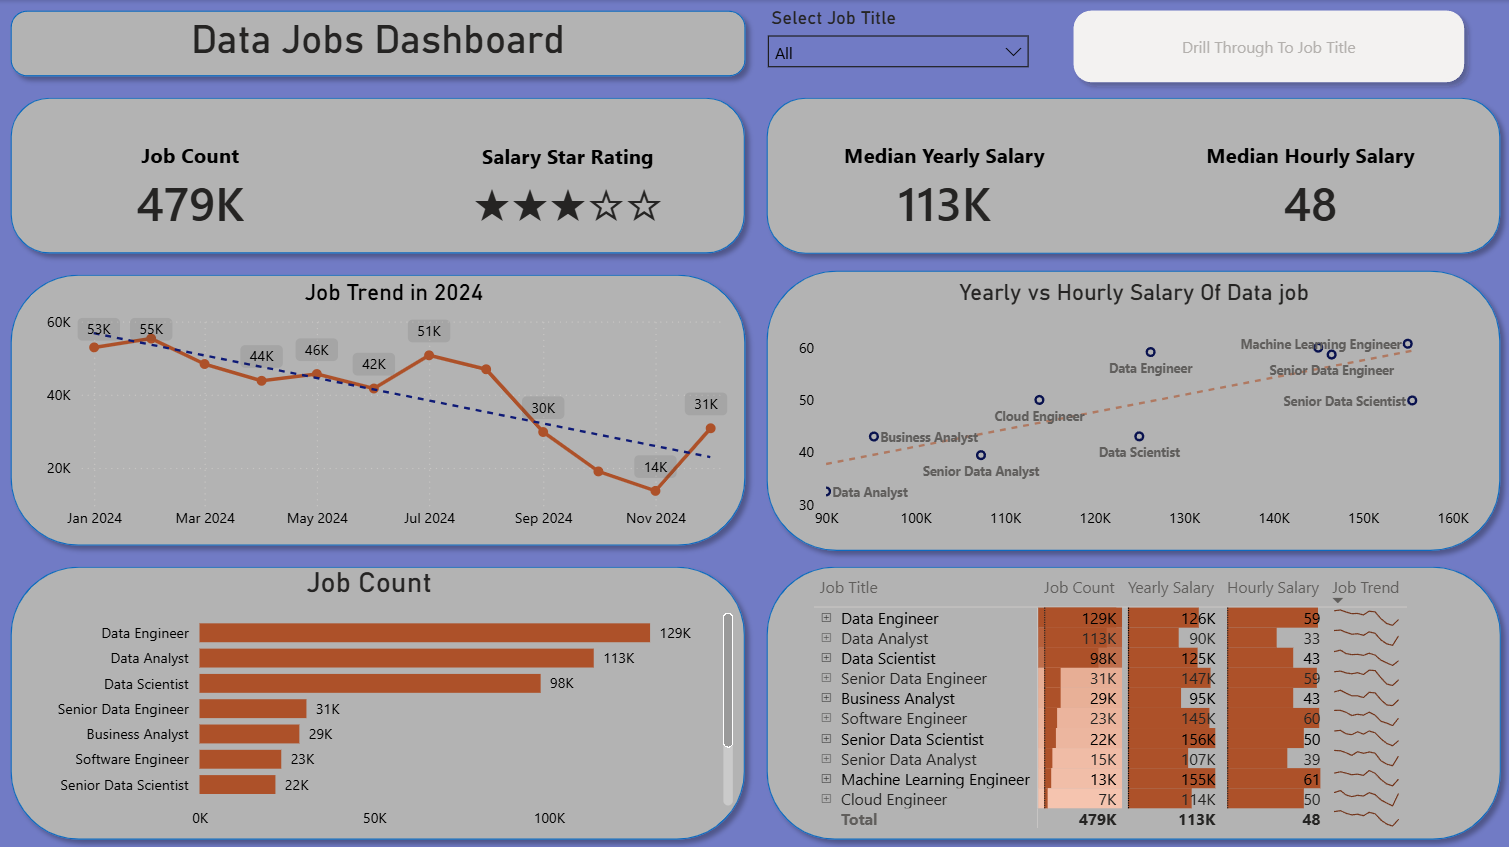

Layout of this report page (visuals, bound fields, positions):
{"tool":"powerbi","page":{"name":"Dashboard","canvas":[1280,720],"ordinal":0},"visuals":[{"type":"group","id":"g1","title":"Background Shape","box":[0,0,1280,720.2],"z":1000},{"type":"shape","box":[0,73.3,640,150.1],"z":1000,"group":"g1"},{"type":"textbox","box":[0,8.8,640.5,72.7],"z":2000},{"type":"shape","box":[640.5,73.7,639.5,150.3],"z":2000,"group":"g1"},{"type":"slicer","fields":{"Values":["job_postings_flat.job_title_short"]},"box":[640.5,0,240.7,73.7],"z":3000},{"type":"shape","box":[640.5,220,639.5,255.4],"z":3000,"group":"g1"},{"type":"shape","box":[0,224,640.5,247.6],"z":4000,"group":"g1"},{"type":"lineChart","title":"Job Trend in 2024","fields":{"Y":["CountNonNull(job_postings_flat.job_title_short)"],"Category":["job_postings_flat.job_posted_date.Variation.Date Hierarchy.Year","job_postings_flat.job_posted_date.Variation.Date Hierarchy.Quarter","job_postings_flat.job_posted_date.Variation.Date Hierarchy.Month","job_postings_flat.job_posted_date.Variation.Date Hierarchy.Day"]},"box":[34.4,236.7,598.3,221],"z":4000},{"type":"shape","box":[0,470.9,640,249.3],"z":5000,"group":"g1"},{"type":"barChart","title":"Job Count","fields":{"Category":["job_postings_flat.job_title_short"],"Y":["CountNonNull(job_postings_flat.job_title_short)"]},"box":[0,479.4,625.8,231.8],"z":5000},{"type":"scatterChart","title":"Yearly vs Hourly Salary Of Data job","fields":{"X":["job_postings_flat.salary_year_avg"],"Y":["job_postings_flat.salary_hour_avg"],"Series":["job_postings_flat.job_title_short"]},"box":[671.9,236.7,577.6,221],"z":6000},{"type":"shape","box":[640,470.9,640,249.3],"z":6000,"group":"g1"},{"type":"shape","box":[0,0,640.5,73.7],"z":7000,"group":"g1"},{"type":"pivotTable","fields":{"Rows":["job_postings_flat.job_title_short","job_postings_flat.job_posted_date.Variation.Date Hierarchy.Quarter"],"Values":["CountNonNull(job_postings_flat.job_title_short)","Median(job_postings_flat.salary_year_avg)","Median(job_postings_flat.salary_hour_avg)","SparklineData(CountNonNull(job_postings_flat.job_title_short)_[job_postings_flat.job_posted_date.Variation.Date Hierarch"]},"box":[684.7,483.3,595.3,236.7],"z":7000},{"type":"cardVisual","title":"Job Count","fields":{"Data":["CountNonNull(job_postings_flat.job_title_short)"]},"box":[2,78.6,319.3,158.2],"z":8000},{"type":"cardVisual","fields":{"Data":["job_postings_flat.Salary Star Rating"]},"box":[321.2,78.6,320.2,158.2],"z":9000},{"type":"cardVisual","fields":{"Data":["Median(job_postings_flat.salary_year_avg)"]},"box":[645.4,78.6,309.4,158.2],"z":10000},{"type":"cardVisual","fields":{"Data":["Median(job_postings_flat.salary_hour_avg)"]},"box":[954.8,80.6,311.4,156.2],"z":11000},{"type":"actionButton","box":[900.8,0,348.7,78.6],"z":12000}]}

Visuals, with their boxes in screenshot pixels (x1, y1, x2, y2), scaled from the page's 1280x720 canvas onto the 1509x847 screenshot:
"Background Shape" group: {"left": 0, "top": 0, "right": 1508, "bottom": 846}
shape: {"left": 0, "top": 86, "right": 754, "bottom": 263}
textbox: {"left": 0, "top": 10, "right": 755, "bottom": 96}
shape: {"left": 755, "top": 87, "right": 1508, "bottom": 264}
slicer - job_postings_flat.job_title_short: {"left": 755, "top": 0, "right": 1039, "bottom": 87}
shape: {"left": 755, "top": 259, "right": 1508, "bottom": 559}
shape: {"left": 0, "top": 264, "right": 755, "bottom": 555}
"Job Trend in 2024" lineChart: {"left": 41, "top": 278, "right": 746, "bottom": 538}
shape: {"left": 0, "top": 554, "right": 754, "bottom": 846}
"Job Count" barChart: {"left": 0, "top": 564, "right": 738, "bottom": 837}
"Yearly vs Hourly Salary Of Data job" scatterChart: {"left": 792, "top": 278, "right": 1473, "bottom": 538}
shape: {"left": 754, "top": 554, "right": 1508, "bottom": 846}
shape: {"left": 0, "top": 0, "right": 755, "bottom": 87}
pivotTable - job_postings_flat.job_title_short x job_postings_flat.job_posted_date.Variation.Date Hierarchy.Quarter: {"left": 807, "top": 569, "right": 1508, "bottom": 846}
"Job Count" cardVisual: {"left": 2, "top": 92, "right": 379, "bottom": 279}
cardVisual - job_postings_flat.Salary Star Rating: {"left": 379, "top": 92, "right": 756, "bottom": 279}
cardVisual - Median(job_postings_flat.salary_year_avg): {"left": 761, "top": 92, "right": 1126, "bottom": 279}
cardVisual - Median(job_postings_flat.salary_hour_avg): {"left": 1126, "top": 95, "right": 1493, "bottom": 279}
actionButton: {"left": 1062, "top": 0, "right": 1473, "bottom": 92}
